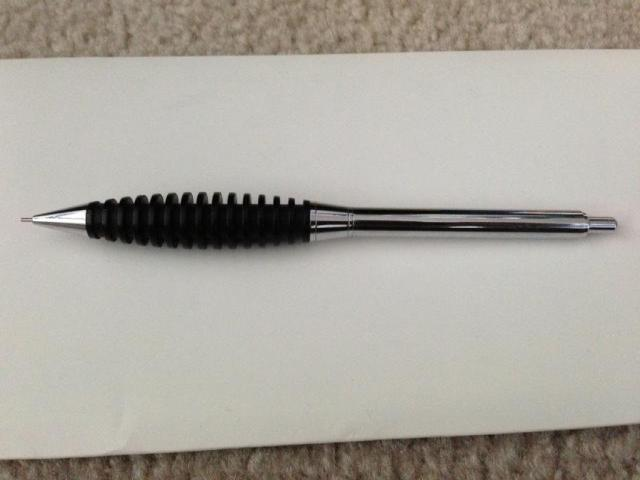PEN: (6, 172, 640, 285)
